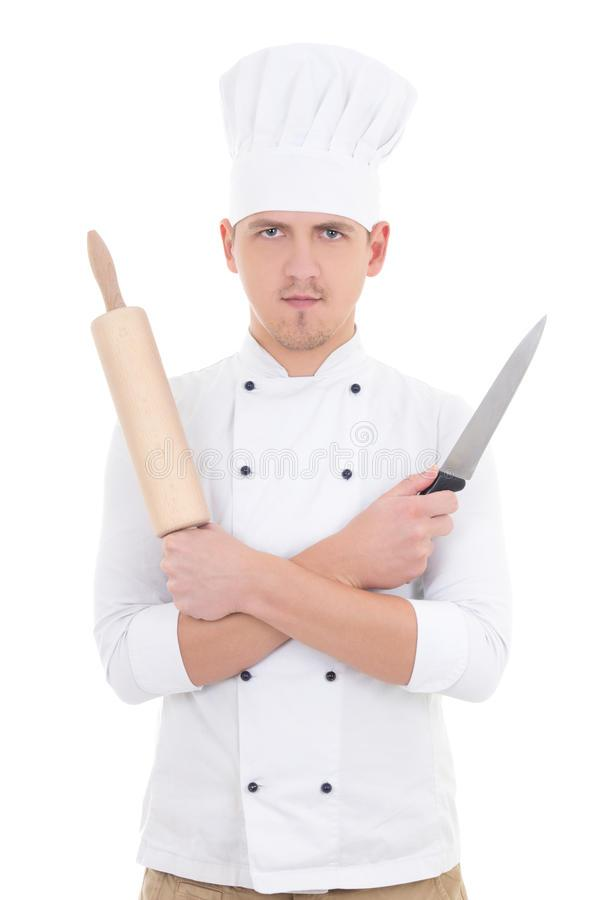criminal: (91, 40, 552, 900)
weapon: (418, 308, 550, 505)
